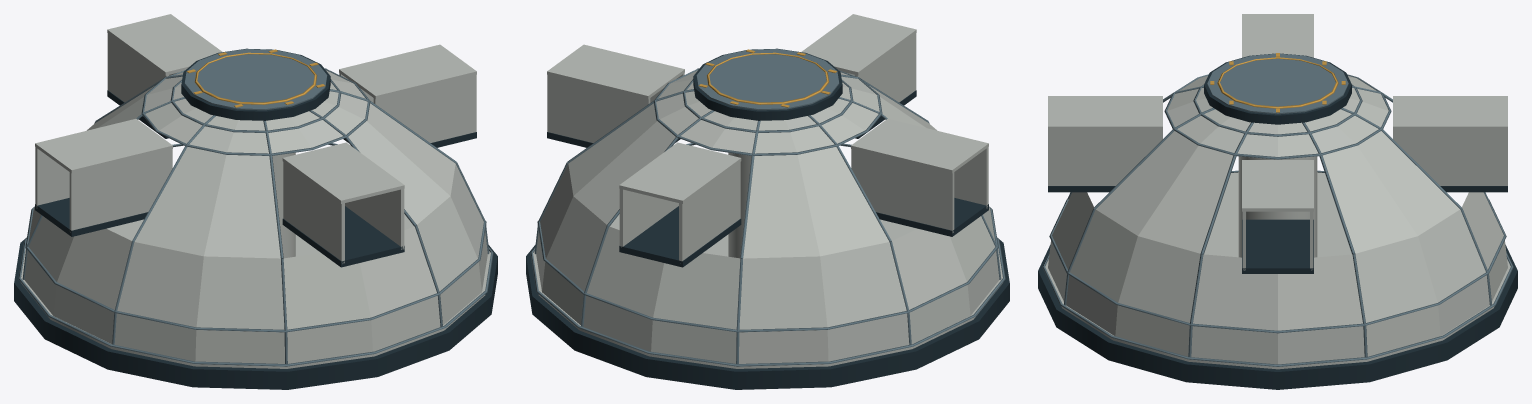
File: fabrication_d0_lod2.glb
3 renders of one model, left to right at view 1: azimuth 30°, elevation 25°; view 2: azimuth 150°, elevation 25°; view 3: azimuth 270°, elevation 25°, orthographic.
Visible parts, largest first — view 1: BODY; view 2: BODY; view 3: BODY.
Boxes of the visible parts, left/top/right/bottom form: BODY: left=14, top=14, right=497, bottom=389; BODY: left=526, top=14, right=1009, bottom=389; BODY: left=1038, top=14, right=1517, bottom=389.
Bounding box in the file's own units: 29.2 × 13.88 × 29.2.
